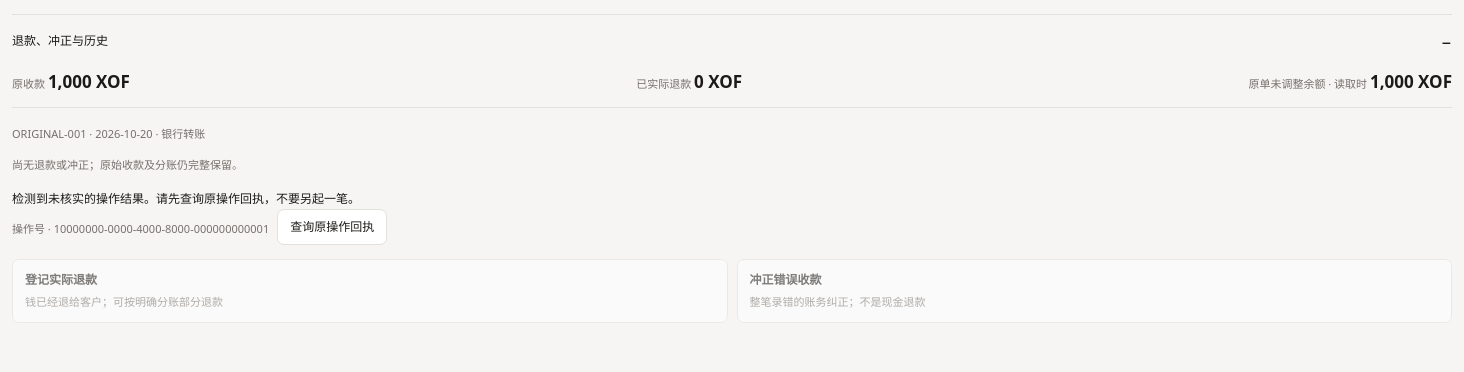
Scenario: CIMAC immutable original-receipt corrections › shows actual recovered kind even if the pending panel initially selected no operation
The image size is (1464, 372).
Click the button "查询原操作回执". click: [332, 227]
box: top-left (277, 209), bottom-right (387, 245)
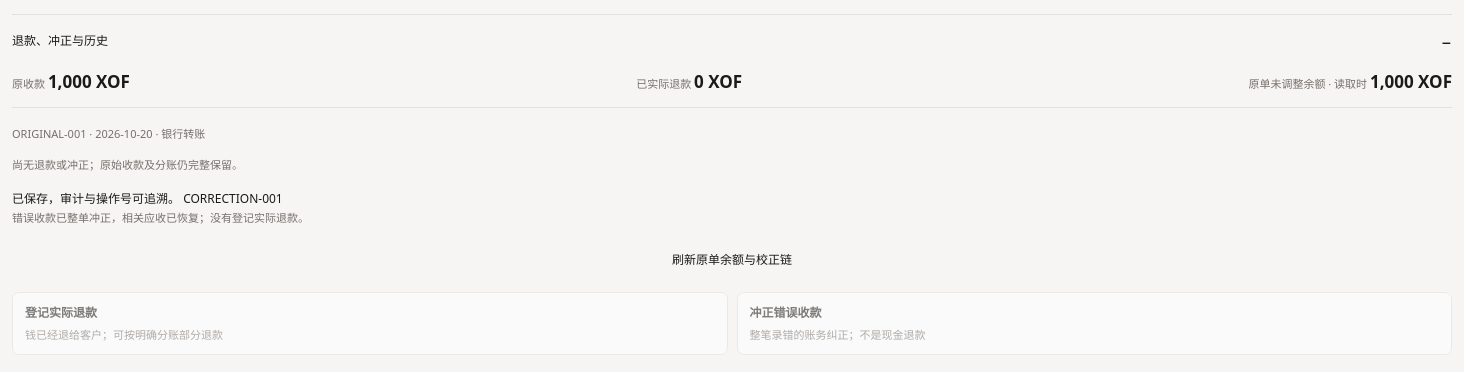
Expected: the text "错误收款已整单冲正" is shown, top-left (12, 210), bottom-right (309, 225)
